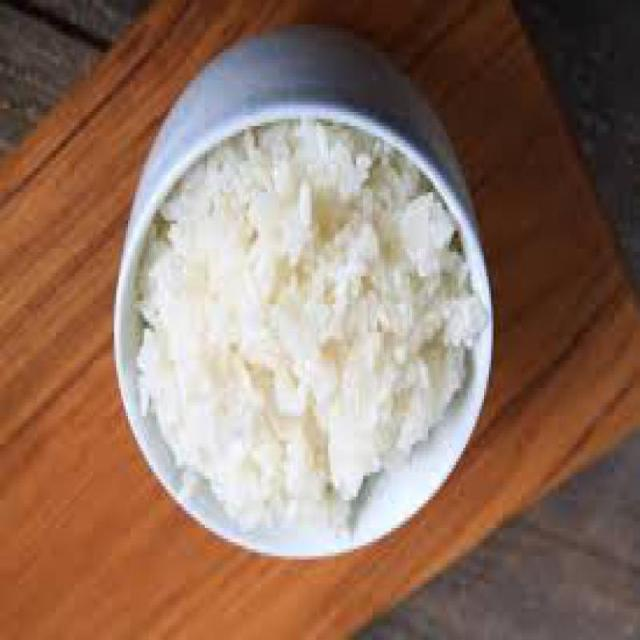nasi_putih: (140, 121, 467, 544)
